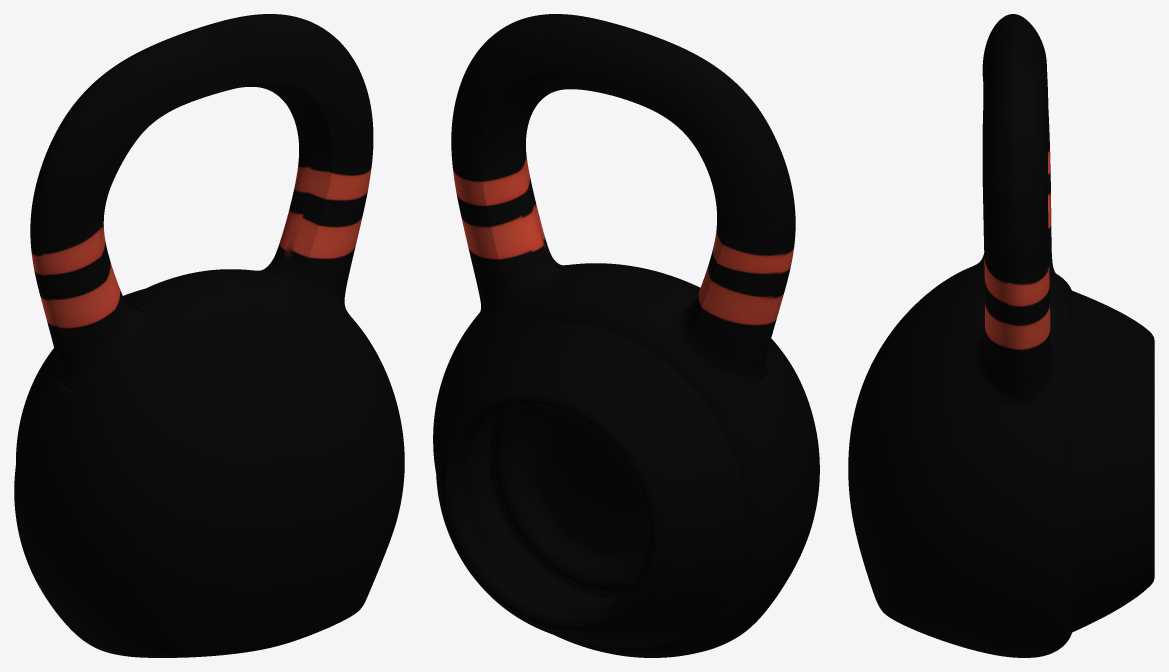
Rendered from kettlebell__hunyuan.glb.
The picture shows the model from 3 angles, left to right: view 1: azimuth 30°, elevation 25°; view 2: azimuth 150°, elevation 25°; view 3: azimuth 270°, elevation 25°; orthographic projection. The views are drawn at different scales.
Parts seen in each view (by area): view 1: material; view 2: material; view 3: material.
Boxes of the visible parts, <box> form: material: <box>14,14,404,657</box>; material: <box>433,14,819,657</box>; material: <box>848,14,1154,657</box>.
Size of the model in its own units: 0.7009 by 1.18 by 0.552.
1 material, 1 textured.
